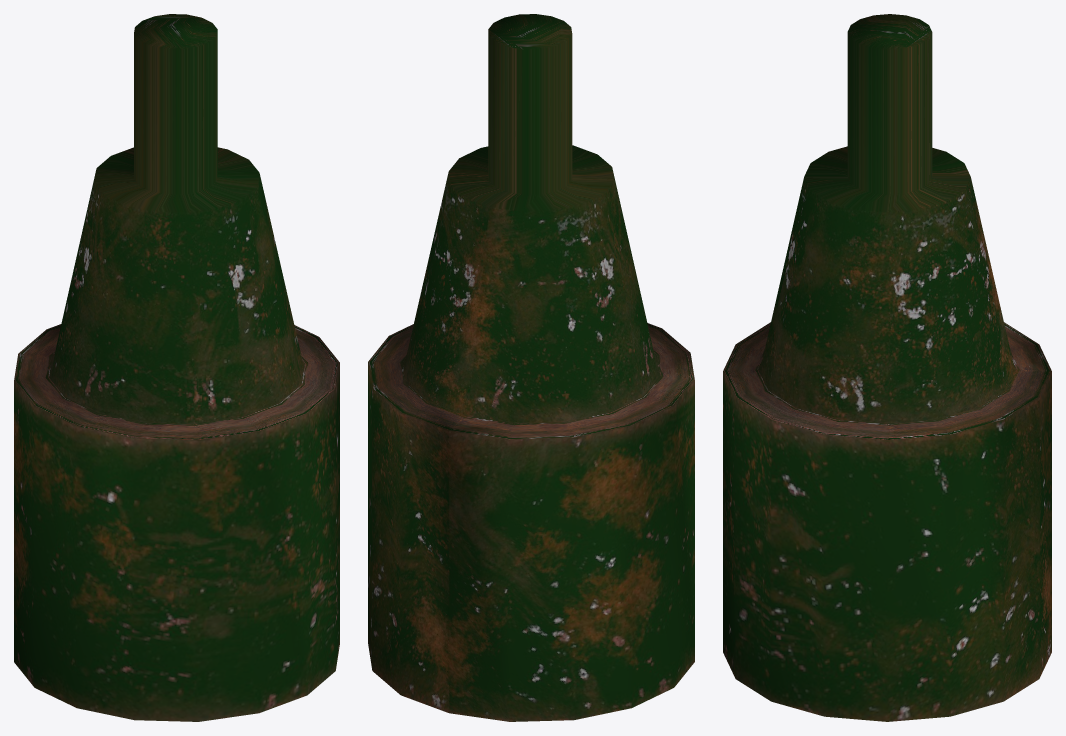
File: Grenade-soviet-low1.glb
The picture shows the model from 3 angles, left to right: view 1: azimuth 30°, elevation 25°; view 2: azimuth 150°, elevation 25°; view 3: azimuth 270°, elevation 25°; orthographic projection.
Parts seen in each view (by area): view 1: GrenadeBody; view 2: GrenadeBody; view 3: GrenadeBody.
Boxes of the visible parts, x1,y1,x2,y2 form: GrenadeBody: (14,14,339,721); GrenadeBody: (368,14,694,721); GrenadeBody: (723,14,1051,721).
Size of the model in its own units: 0.0985 by 0.2051 by 0.0985.
Materials: 1 (1 with a texture image).
